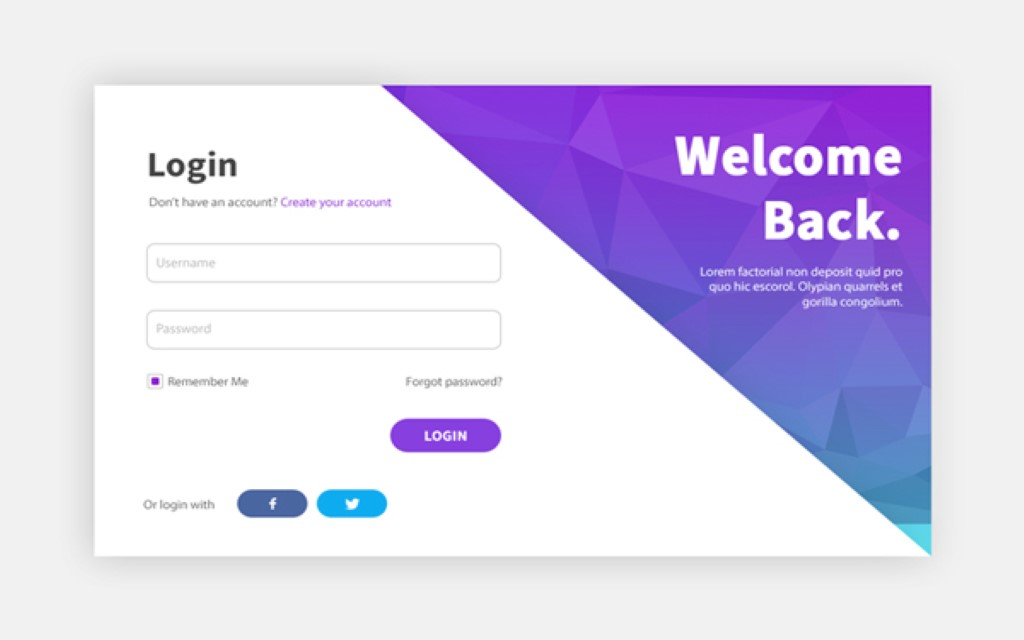button: (390, 418, 501, 452)
checkbox: (147, 373, 164, 391)
checkbox_remember: (146, 372, 257, 392)
label_login: (421, 427, 470, 445)
label_password: (154, 320, 214, 337)
label_remember: (168, 374, 252, 388)
label_username: (155, 256, 217, 272)
textbox: (146, 241, 502, 282), (147, 310, 501, 349)
textbox_Password: (148, 309, 504, 350)
textbox_username: (145, 242, 503, 283)
